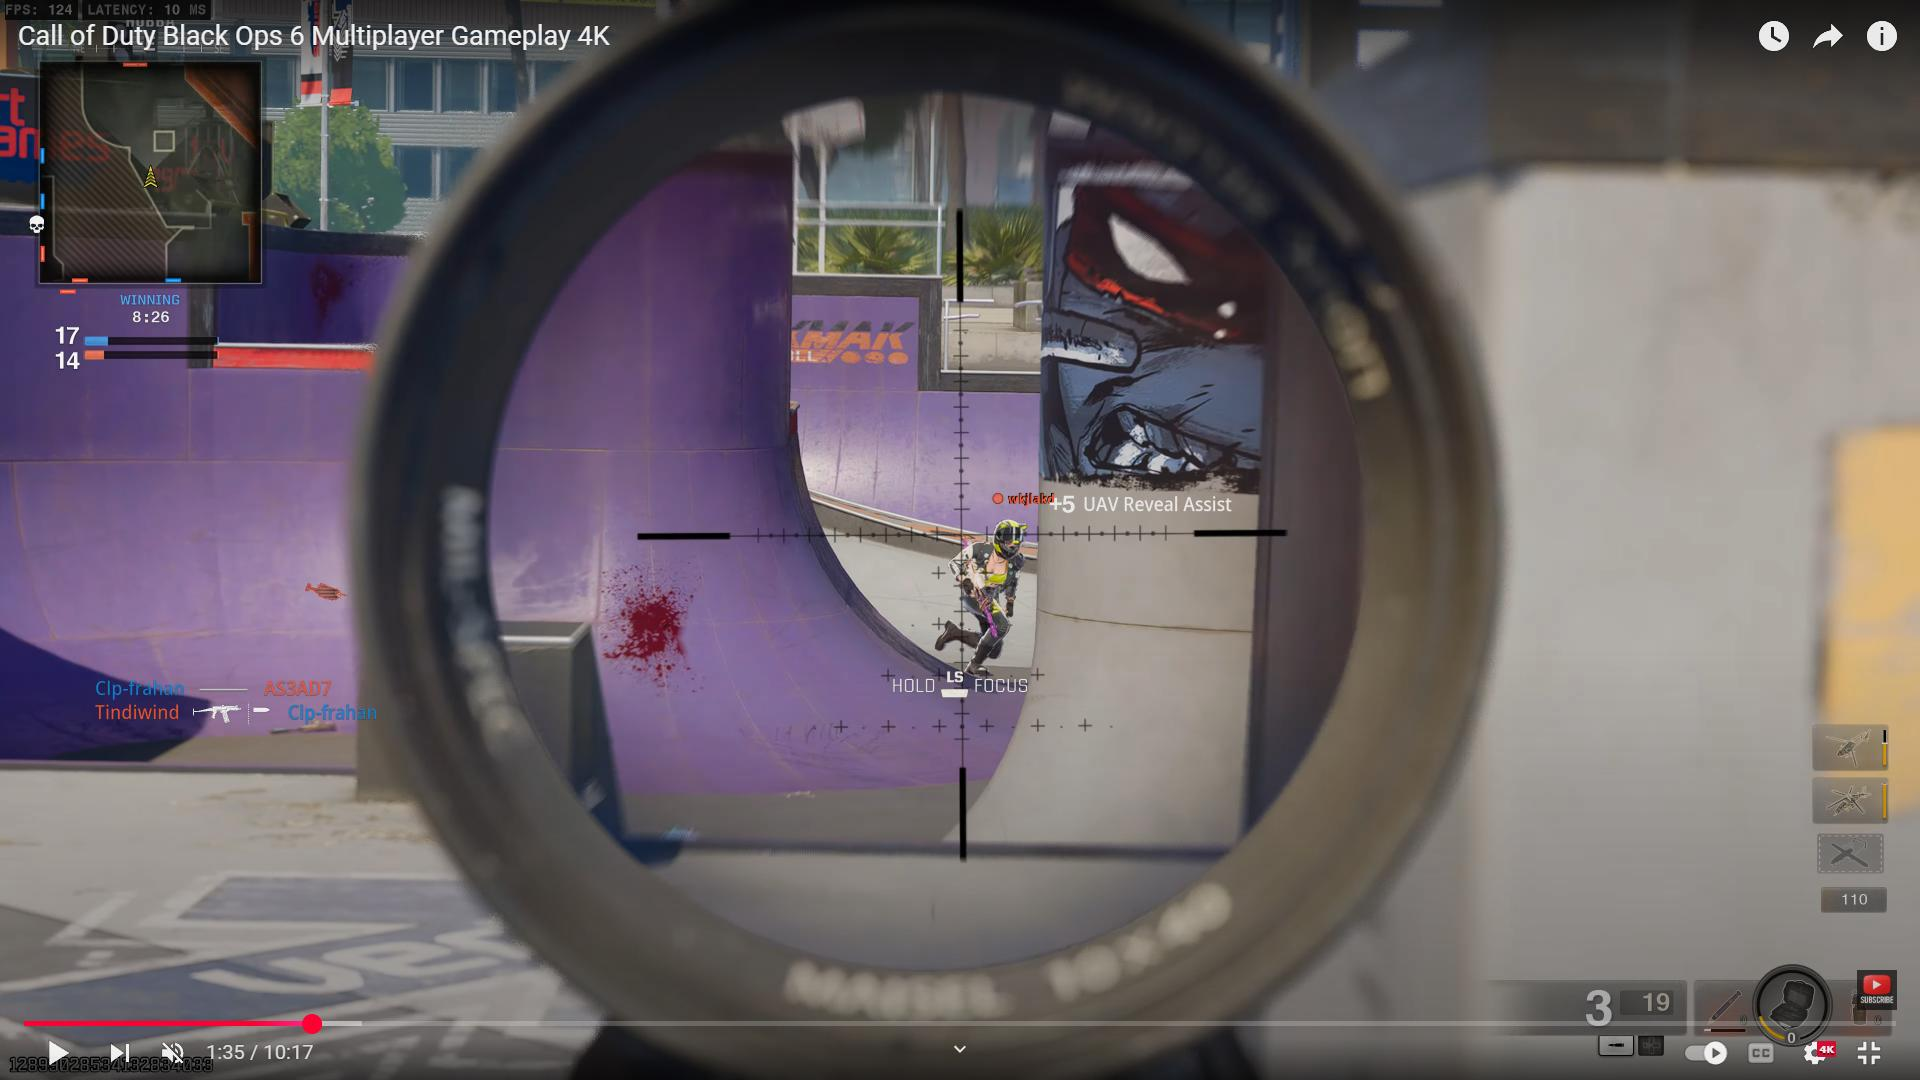Enemy: (934, 510, 1027, 663)
